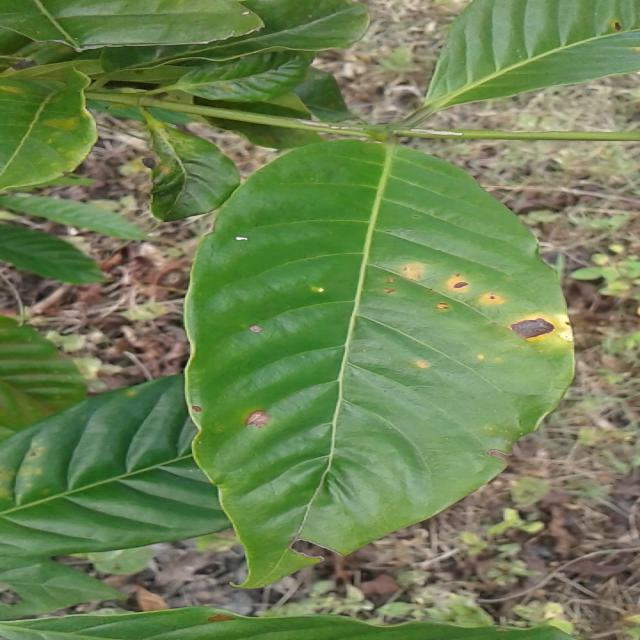Enfermedad-Roya: (182, 140, 576, 592)
